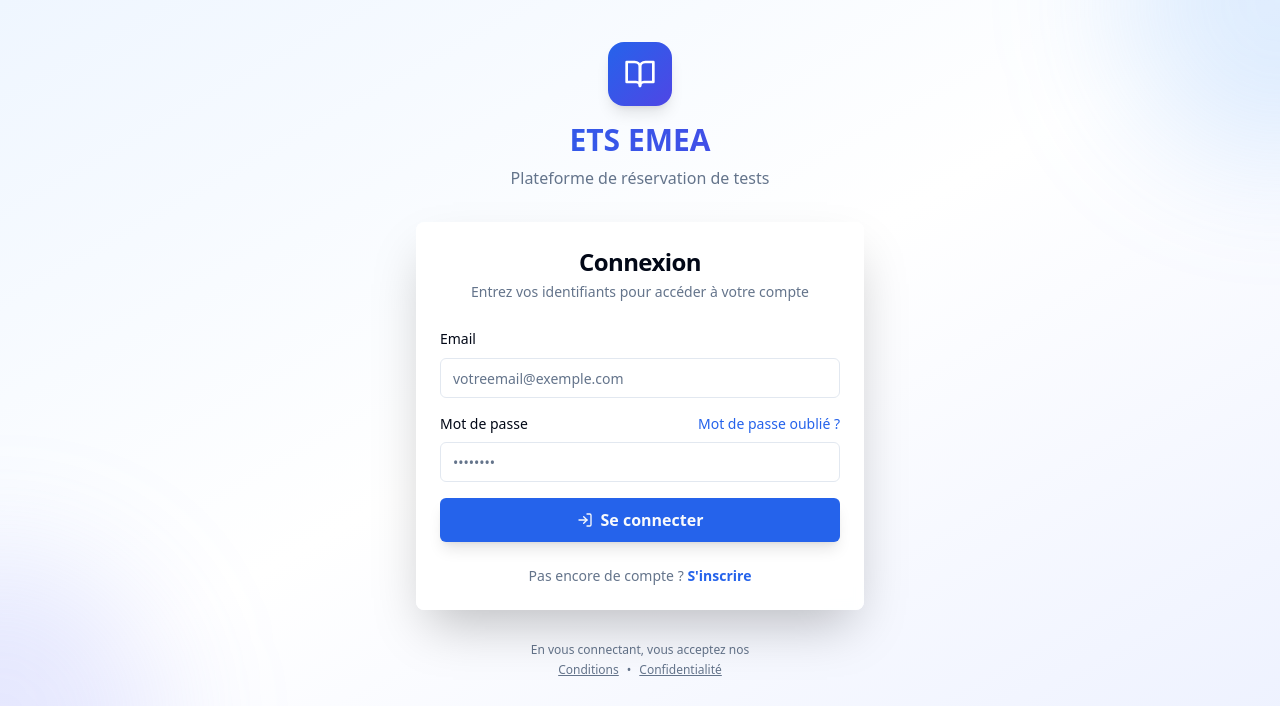
Test: Login Page › should display error message on login failure
Type "test@example.com" into the field labelled "Email" at (640, 378), box [440,358,840,398]
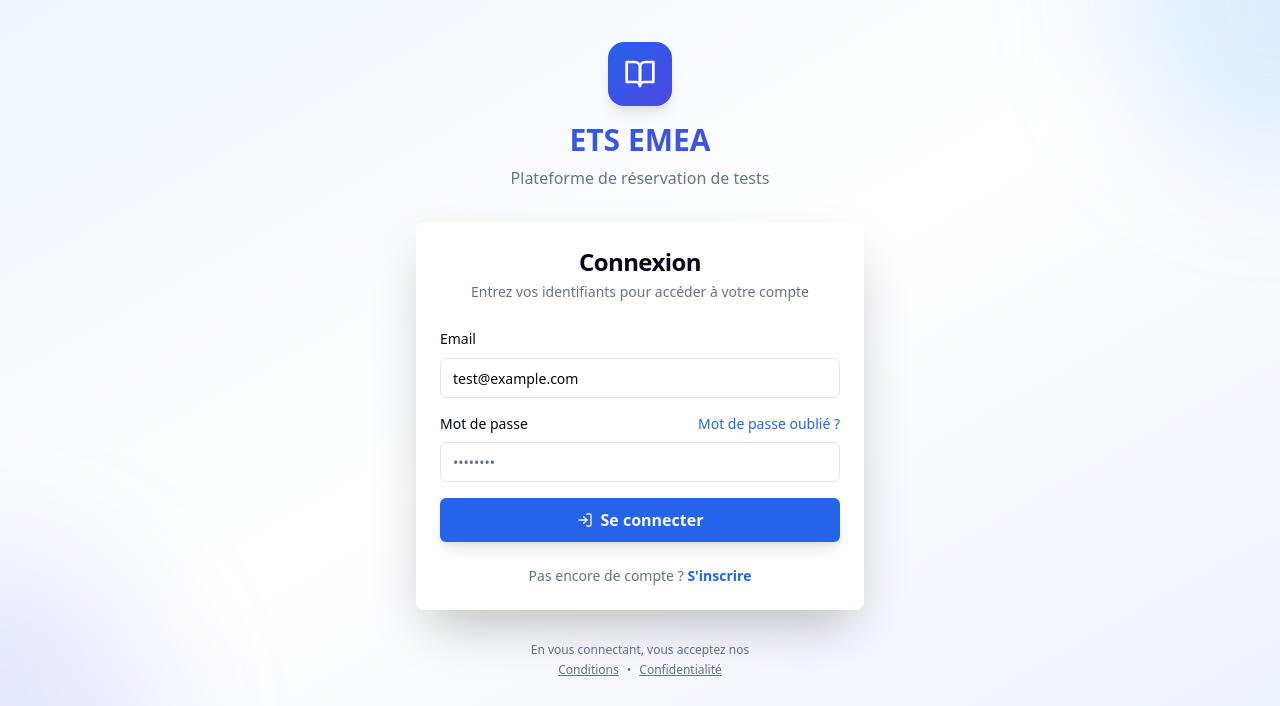
Type "wrongpassword" into the password field labelled "Mot de passe" at (640, 462), box [440,442,840,482]
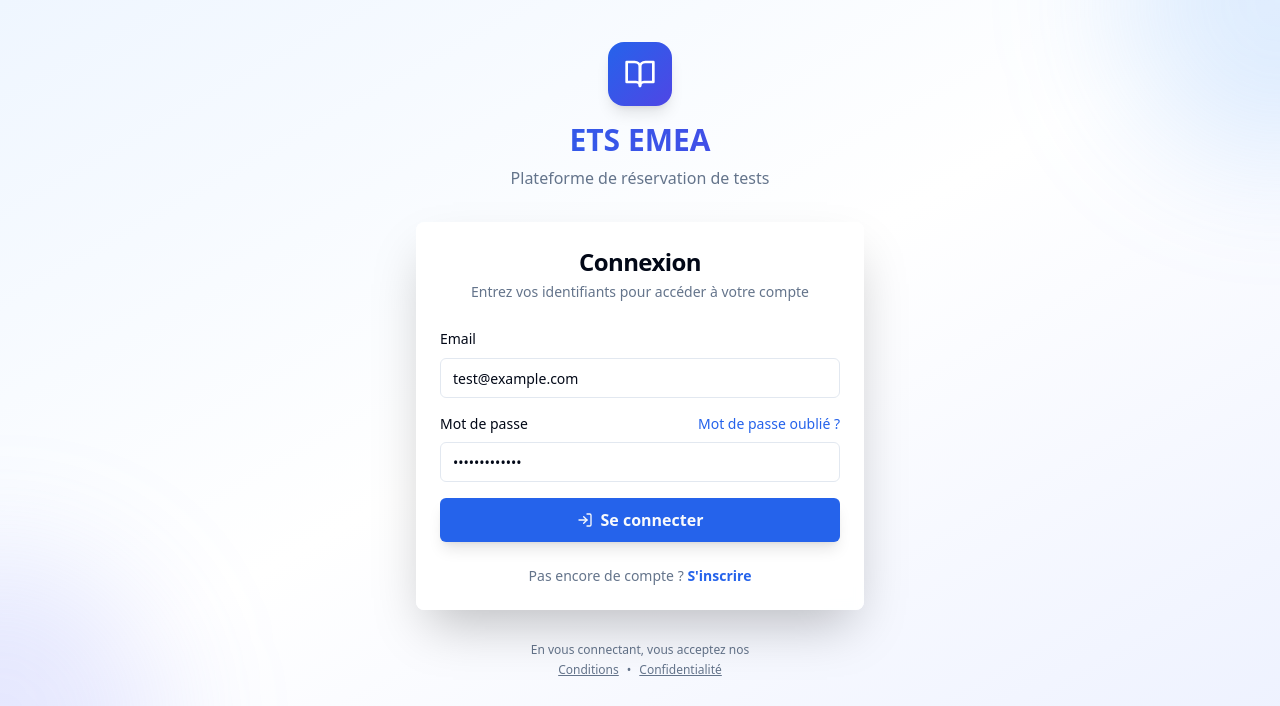
Click the button "Se connecter" at (640, 520), box [440,498,840,542]
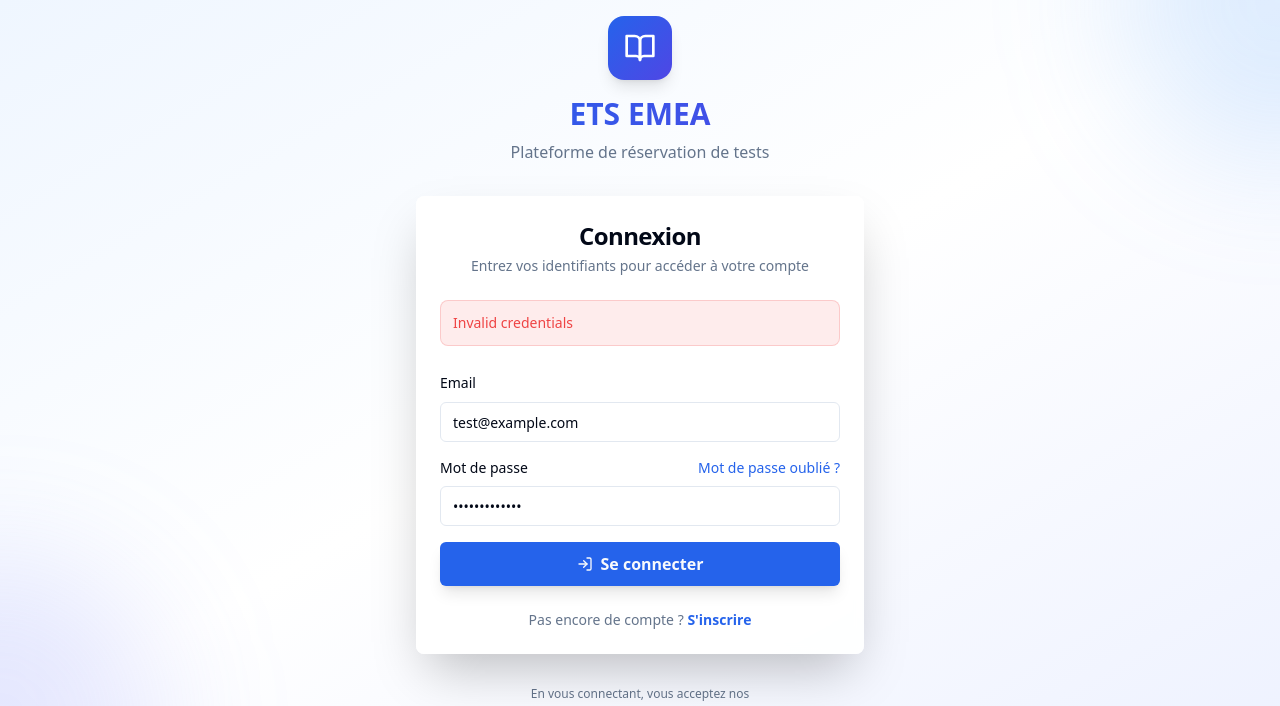
Check: the text "Invalid credentials" is shown, box [440,300,840,346]
